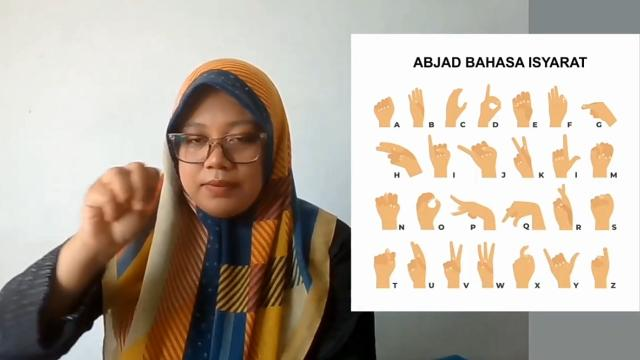M: (80, 160, 160, 254)
